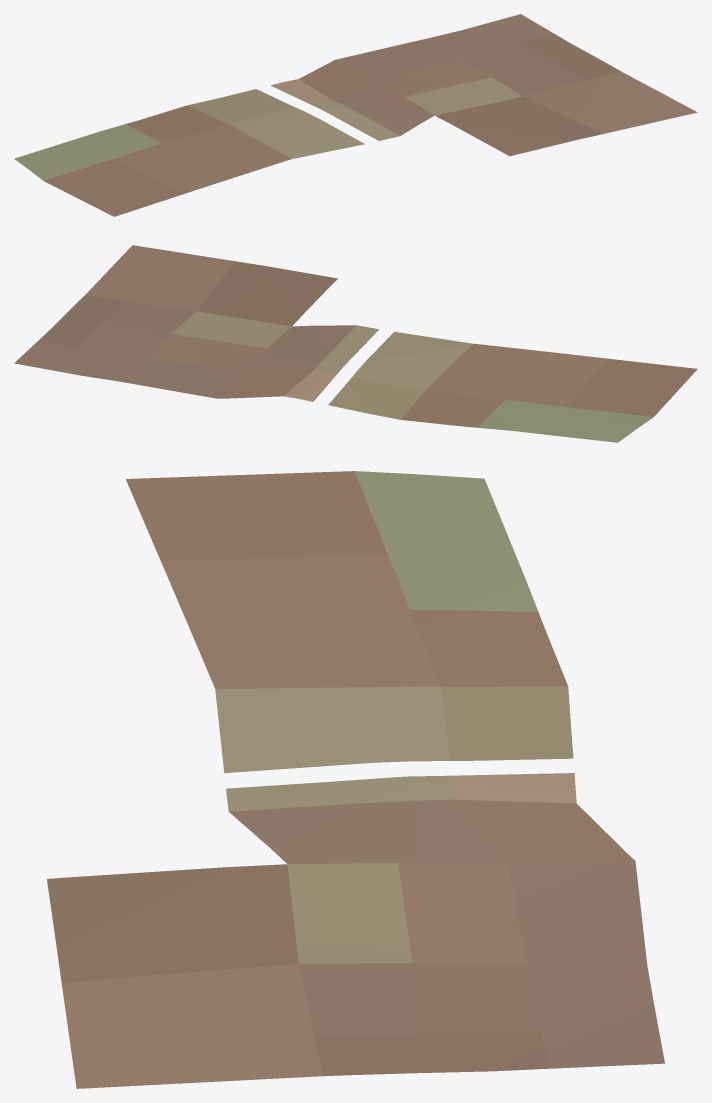
File: farm_13_10_soil.glb
The picture shows the model from 3 angles, top to bottom: view 1: azimuth 30°, elevation 25°; view 2: azimuth 150°, elevation 25°; view 3: azimuth 270°, elevation 25°; orthographic projection. The views are drawn at different scales.
Parts seen in each view (by area): view 1: geometry_0; view 2: geometry_0; view 3: geometry_0.
Boxes of the visible parts, x1,y1,x2,y2 form: geometry_0: (14,14,697,216); geometry_0: (14,245,697,442); geometry_0: (47,471,664,1088).
Bounding box in the file's own units: 313 × 14.38 × 143.
